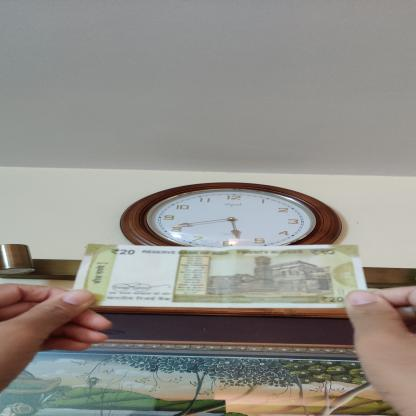New20Back: (70, 242, 368, 308)
